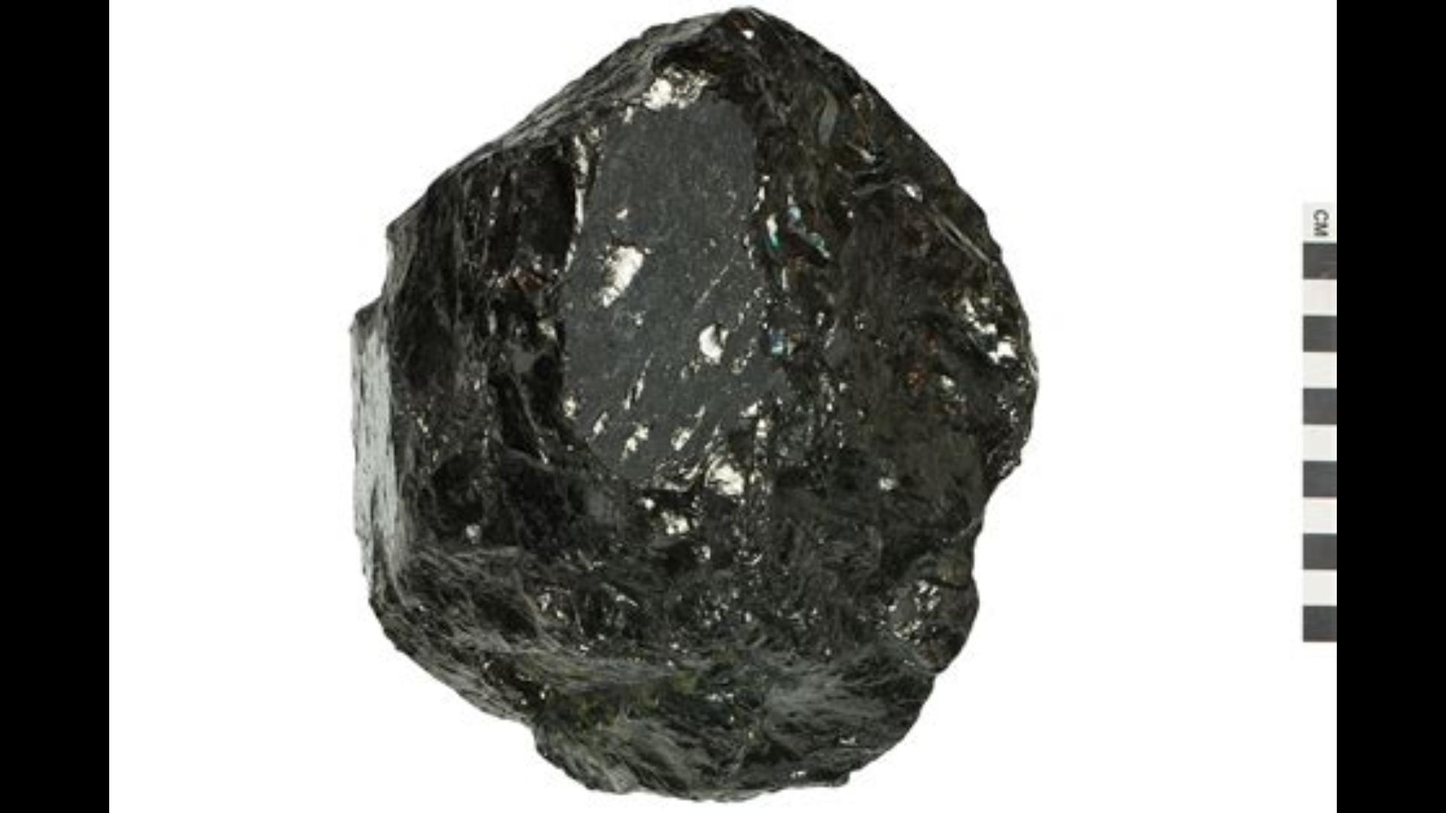rock: (355, 8, 1034, 795), (355, 10, 1026, 787)
